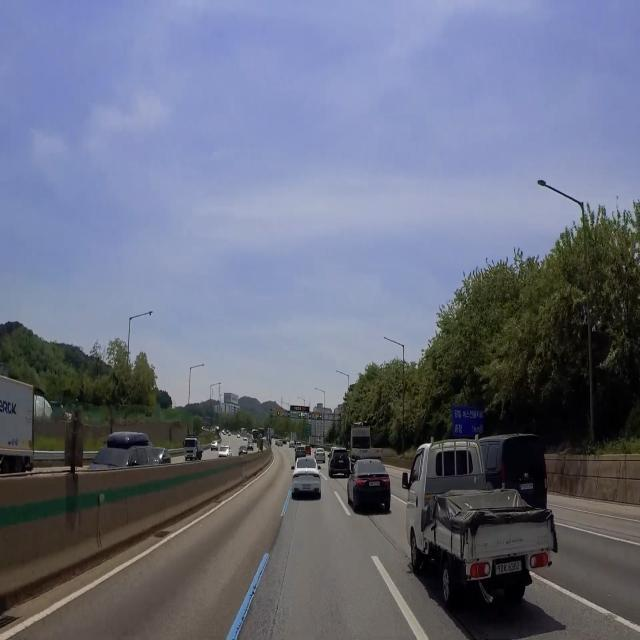car: (492, 561, 525, 576), (517, 480, 537, 491), (369, 477, 382, 491), (302, 483, 311, 490), (338, 459, 344, 464)
